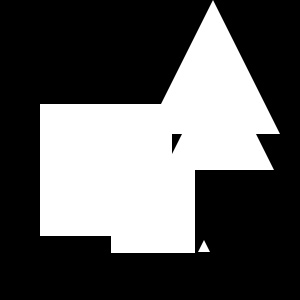circle: (40, 104, 172, 236), (111, 169, 195, 253)
triangle: (146, 0, 280, 134), (164, 60, 274, 170), (198, 240, 210, 252)
